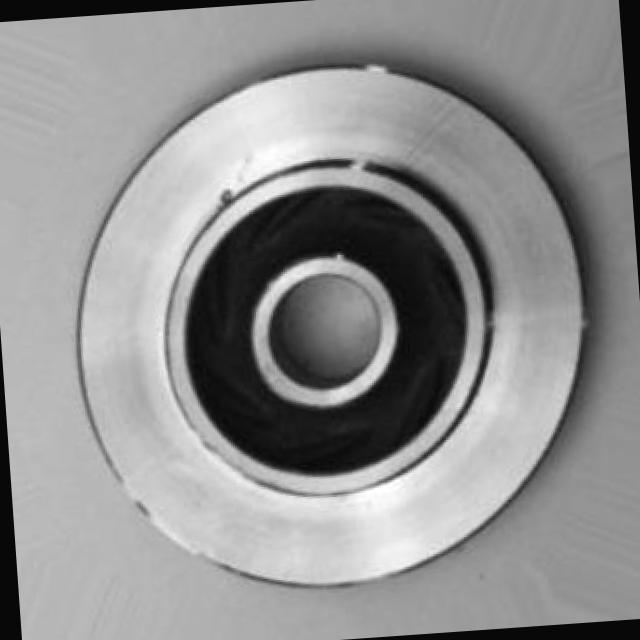Defect: (220, 183, 242, 210)
